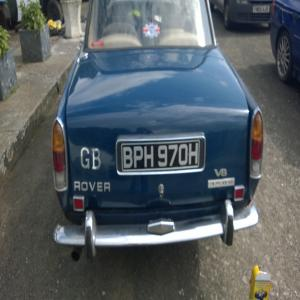Vehicle-registration-plate: (120, 137, 197, 182), (255, 4, 272, 17)
